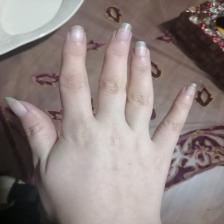five: (10, 22, 195, 222)
